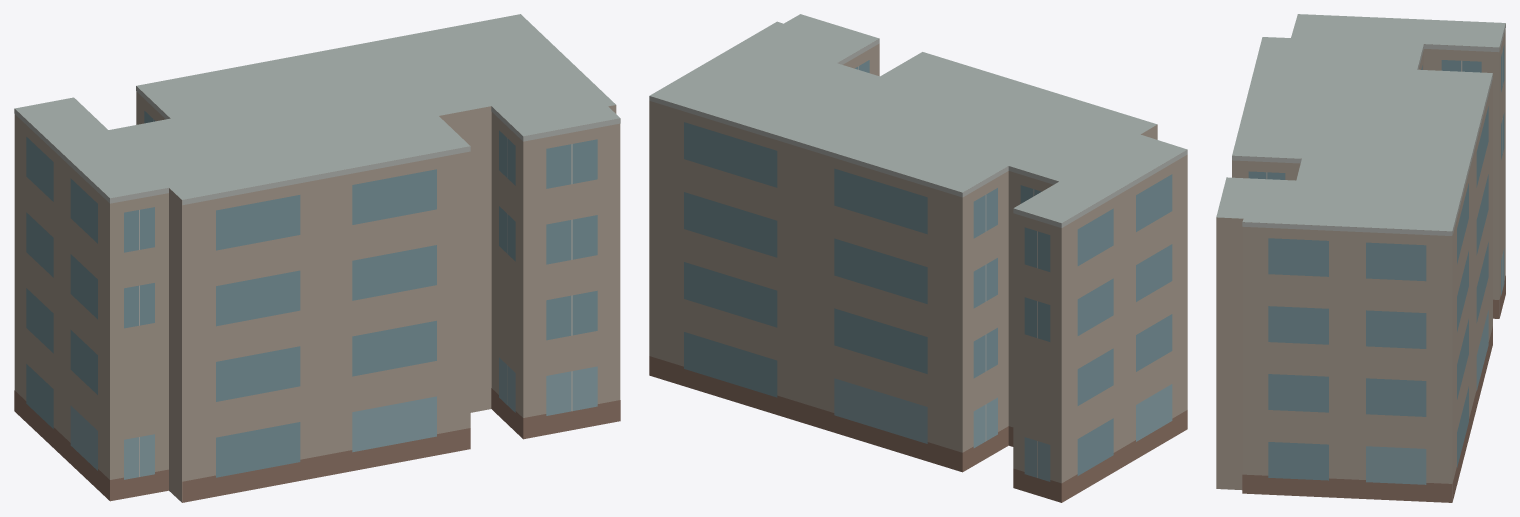
File: survey-upis-32504069.glb
3 renders of one model, left to right at view 1: azimuth 30°, elevation 25°; view 2: azimuth 150°, elevation 25°; view 3: azimuth 270°, elevation 25°, orthographic. The views are drawn at different scales.
Parts seen in each view (by area): view 1: survey-upis-32504069.tmp; view 2: survey-upis-32504069.tmp; view 3: survey-upis-32504069.tmp.
Part boxes in pixels (left/top/right/bottom): survey-upis-32504069.tmp: left=14, top=14, right=620, bottom=502; survey-upis-32504069.tmp: left=649, top=14, right=1187, bottom=502; survey-upis-32504069.tmp: left=1216, top=14, right=1505, bottom=502.
Bounding box in the file's own units: 23.88 × 13.9 × 13.44.
